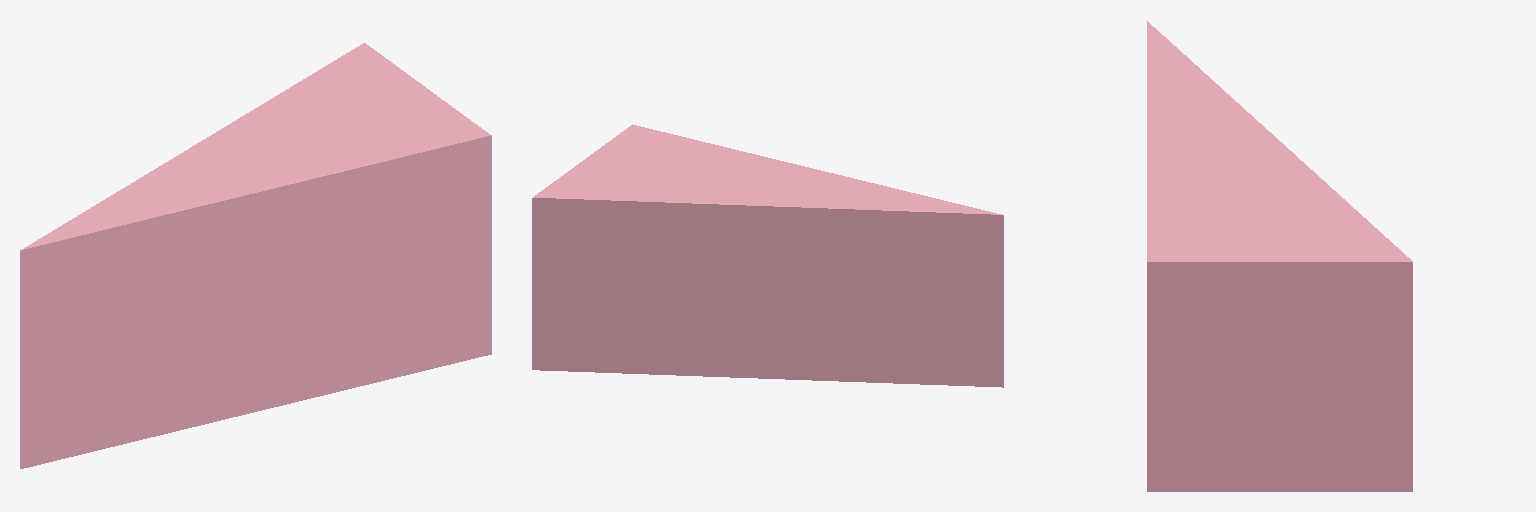
robot.urdf — pink_sponge:
<?xml version="1.0"?>
<robot name="pink_sponge">
  <!-- Materials -->
  <material name="pink">
    <color rgba="1.0 0.75 0.8 1.0"/>
  </material>

  <!-- Pink triangular prism sponge -->
  <link name="sponge">
    <visual>
      <geometry>
        <mesh filename="package://lerobot_robots_description/meshes/pink_sponge.stl"/>
      </geometry>
      <material name="pink"/>
    </visual>
    <collision>
      <geometry>
        <mesh filename="package://lerobot_robots_description/meshes/pink_sponge.stl"/>
      </geometry>
    </collision>
    <inertial>
      <mass value="0.01"/> <!-- Light object -->
      <origin xyz="0 0 0" rpy="0 0 0"/>
      <inertia ixx="0.000001" ixy="0.0" ixz="0.0" iyy="0.000001" iyz="0.0" izz="0.000001"/>
    </inertial>
  </link>
</robot>

--- Facts derived from the render (not from the file) ---
The picture shows the robot from 3 angles, left to right: view 1: azimuth 30°, elevation 25°; view 2: azimuth 150°, elevation 25°; view 3: azimuth 270°, elevation 25°; orthographic projection.
Model pink_sponge with 1 links and 0 joints (none), rooted at sponge, posed every joint at zero.
Links seen in each view (by area): view 1: sponge; view 2: sponge; view 3: sponge.
Boxes of the visible links, x1,y1,x2,y2 form: sponge: (20, 43, 491, 468); sponge: (532, 124, 1003, 387); sponge: (1147, 21, 1412, 491).
Bounding box of the posed robot: 0.045 × 0.021 × 0.02 m (x, y, z).
1 mesh visuals loaded from 1 distinct referenced files (1 binary STL).
